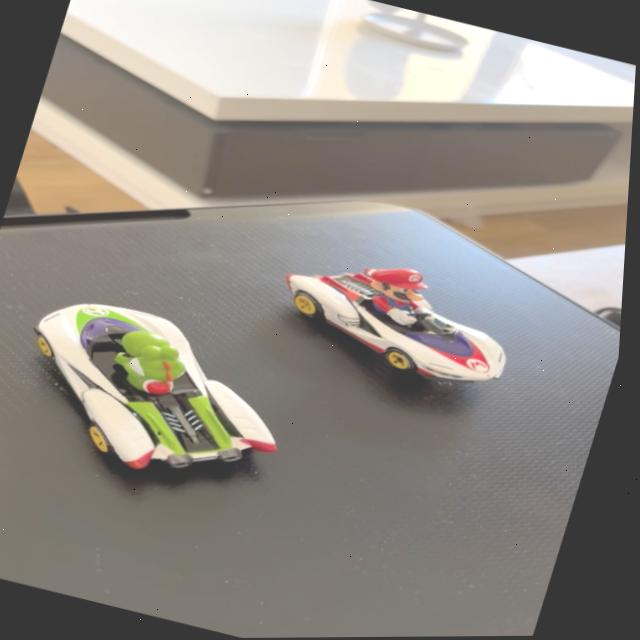mario: (258, 229, 548, 403)
yoshi: (0, 273, 340, 513)
